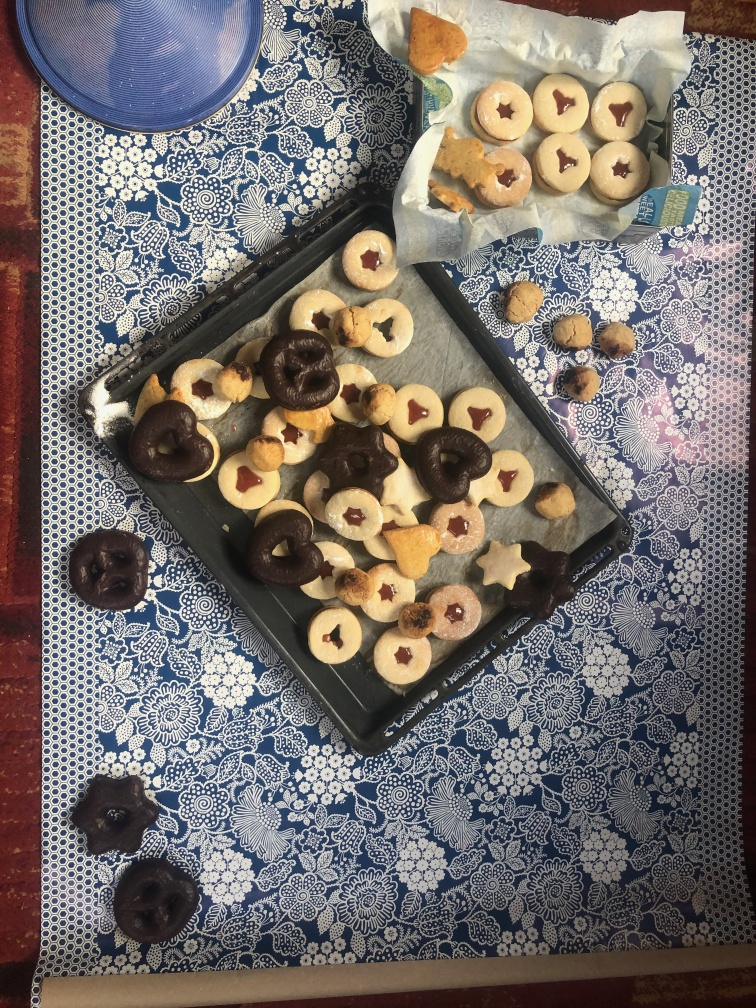bretzel: (65, 528, 152, 615), (118, 860, 198, 946), (263, 331, 340, 405)
christmas shortbread with jam: (471, 77, 537, 143), (590, 78, 650, 143), (591, 142, 651, 205), (530, 72, 590, 134), (370, 625, 433, 684), (338, 226, 396, 290), (448, 383, 507, 442), (359, 297, 412, 361), (535, 132, 590, 193), (218, 454, 276, 510), (173, 361, 228, 419), (285, 285, 348, 333), (429, 582, 481, 639), (485, 146, 536, 204), (307, 609, 360, 664), (434, 499, 486, 554), (394, 384, 441, 437)
heart: (129, 401, 210, 479), (413, 424, 491, 500), (250, 510, 324, 584), (400, 4, 469, 75), (380, 520, 444, 577)
santa claus: (431, 125, 505, 193)
snowball: (499, 279, 546, 328), (531, 482, 578, 523), (360, 379, 397, 428), (330, 567, 377, 605), (243, 433, 286, 474), (547, 312, 594, 348), (558, 364, 596, 405), (213, 361, 249, 404), (340, 305, 378, 345), (397, 601, 435, 639), (596, 316, 633, 354)
star: (69, 771, 164, 855), (317, 422, 393, 504), (514, 540, 576, 618), (483, 538, 530, 590)
